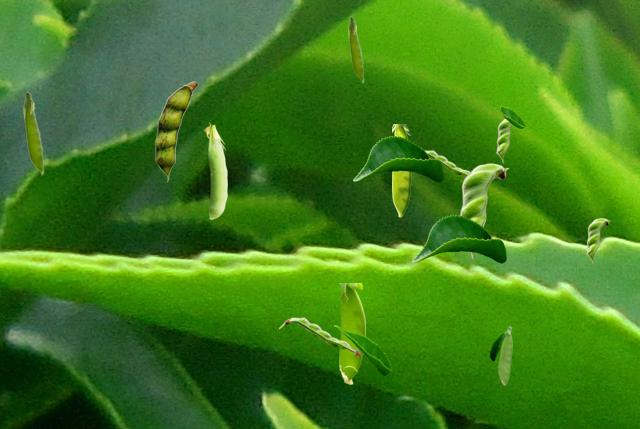pea: (459, 163, 508, 259), (155, 81, 197, 181), (279, 317, 360, 354), (339, 283, 364, 383), (204, 122, 226, 218), (23, 91, 43, 174), (392, 124, 410, 216), (426, 150, 469, 176), (586, 218, 609, 263), (348, 16, 363, 82), (498, 326, 511, 384), (496, 119, 512, 162)
